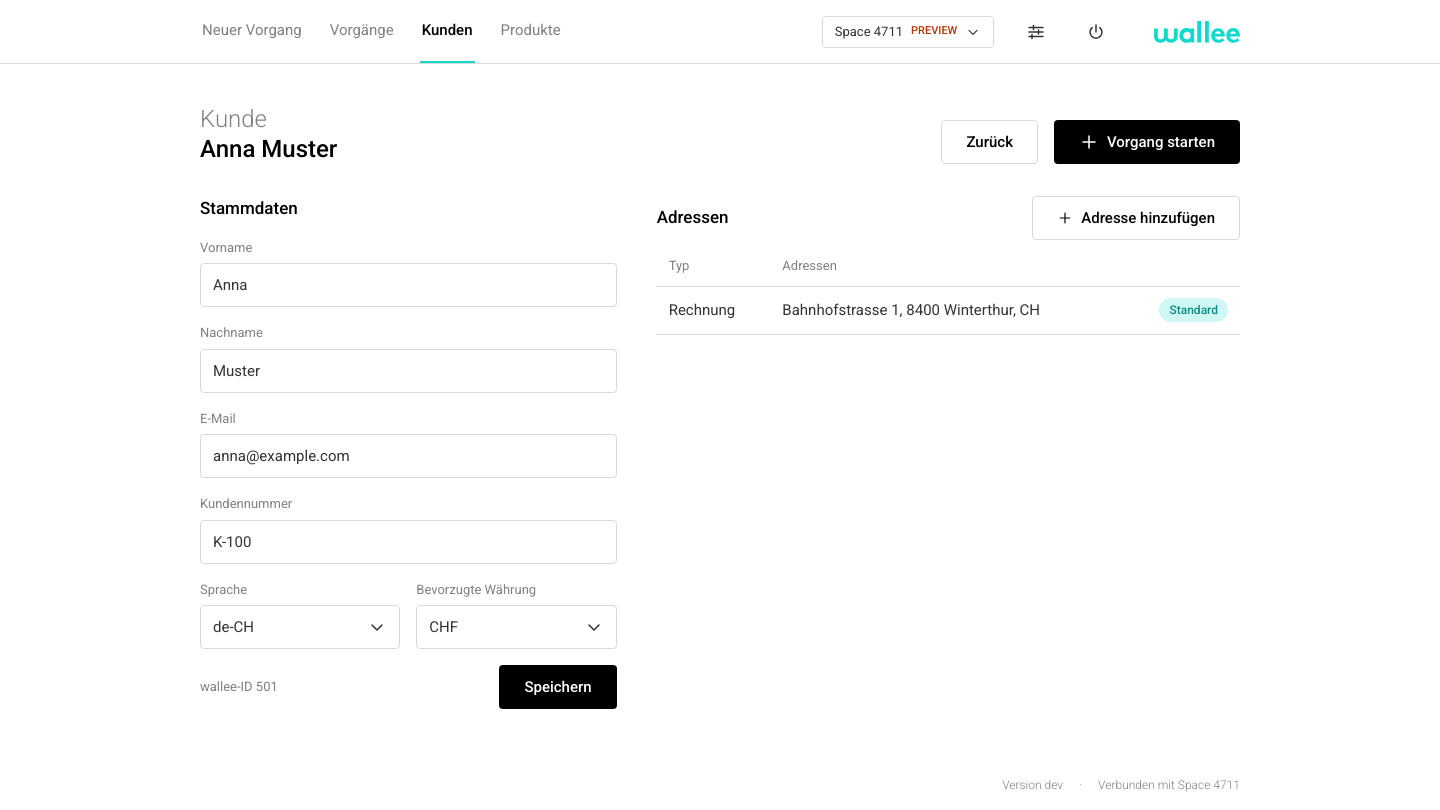
Scenario: CustomerDetailPage › reloads on 409 and explains the conflict
Check: the field labelled "Vorname" is shown, box [200,263,617,307]
Click the button "Speichern" at [558, 687], box [499,665,617,709]
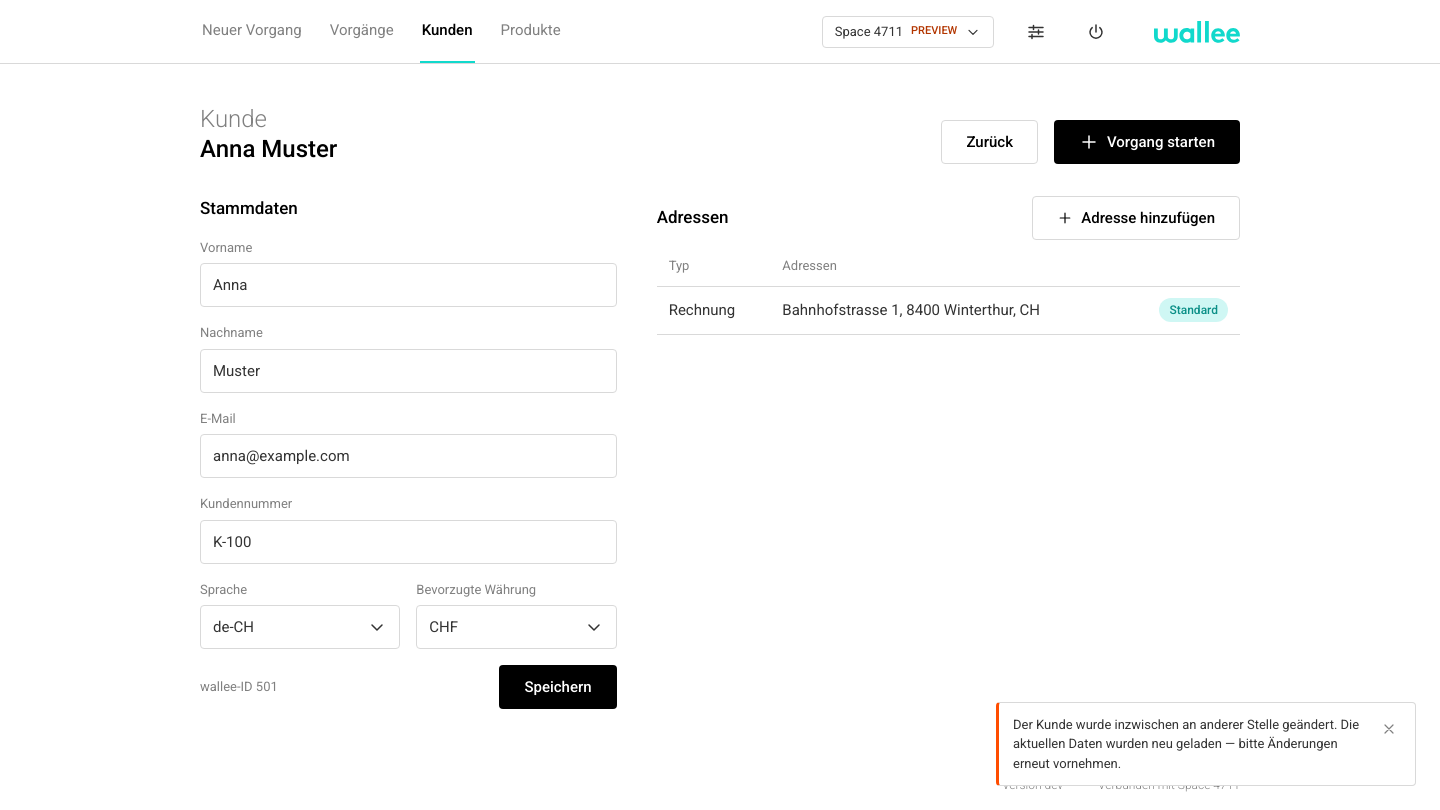
Check: the text "an anderer Stelle geändert" is shown, box [1013,716,1359,770]
